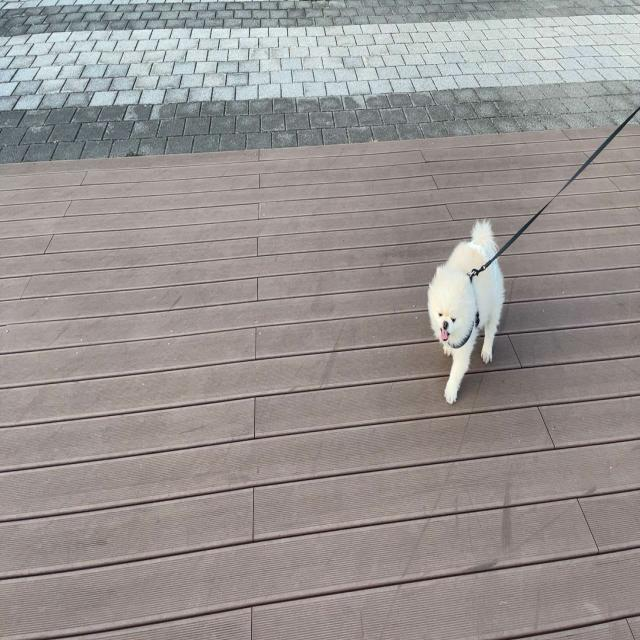Dog: (427, 219, 506, 406)
